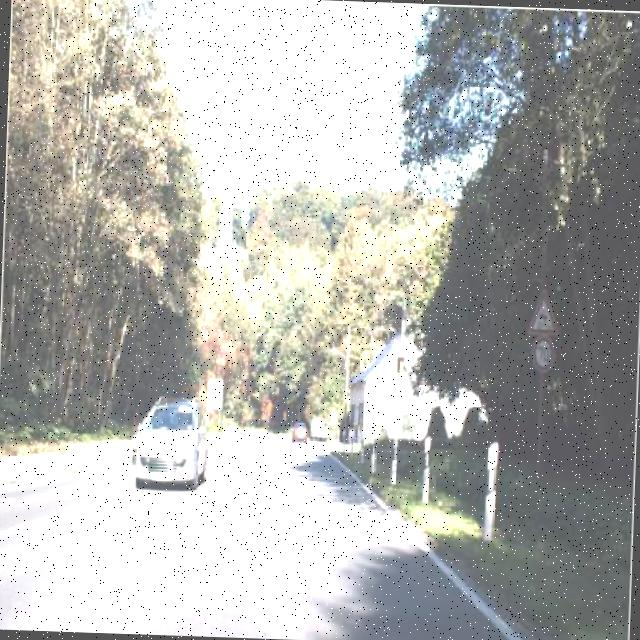Ograniczenie predkosci do 70: (530, 334, 556, 374)
